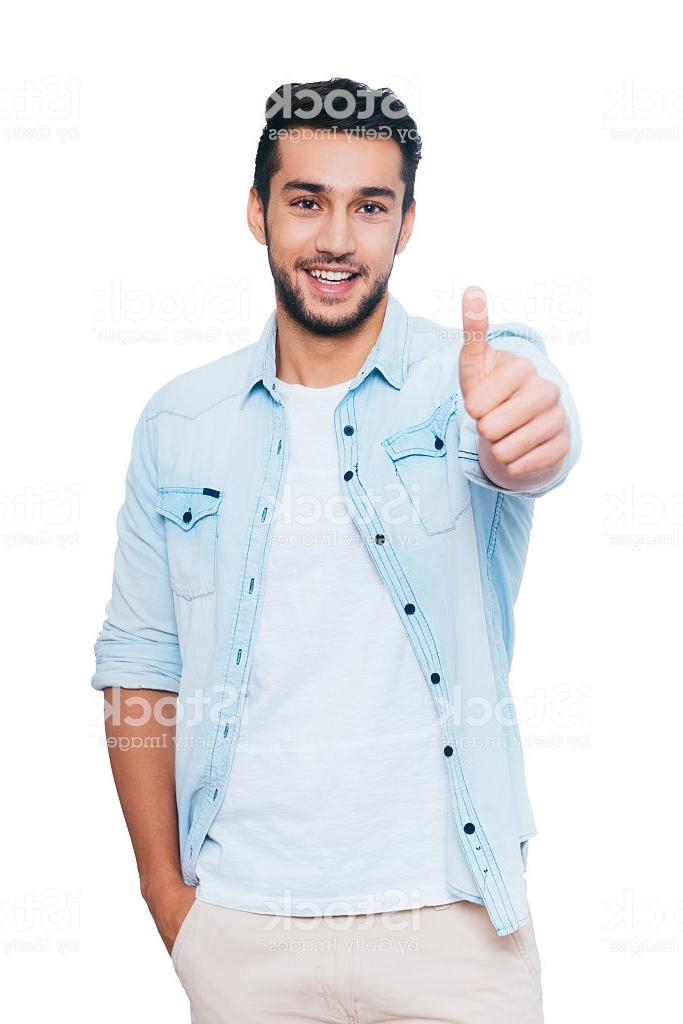thumbsup: (459, 284, 574, 482)
